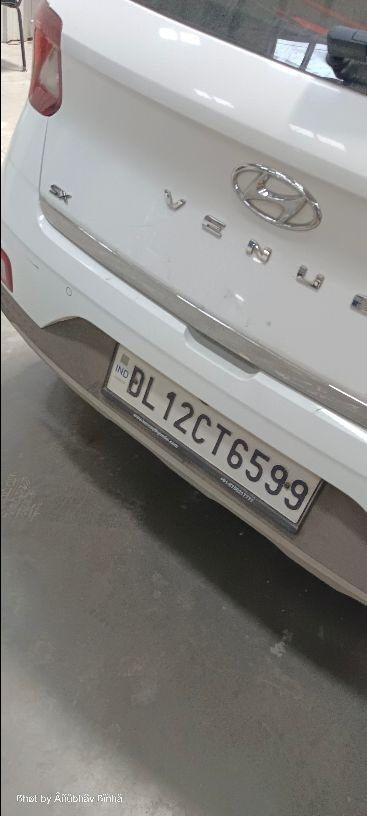license_plate: (100, 341, 325, 534)
